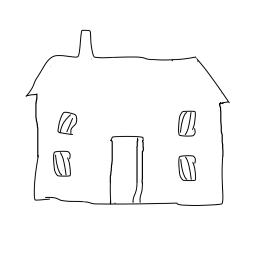chimney: (73, 26, 104, 65)
closed_window: (48, 144, 77, 179), (52, 108, 83, 140), (174, 150, 203, 183), (174, 107, 201, 141)
door: (102, 130, 154, 210)
single_line_roof: (19, 53, 237, 105)
wall: (28, 95, 229, 211)
